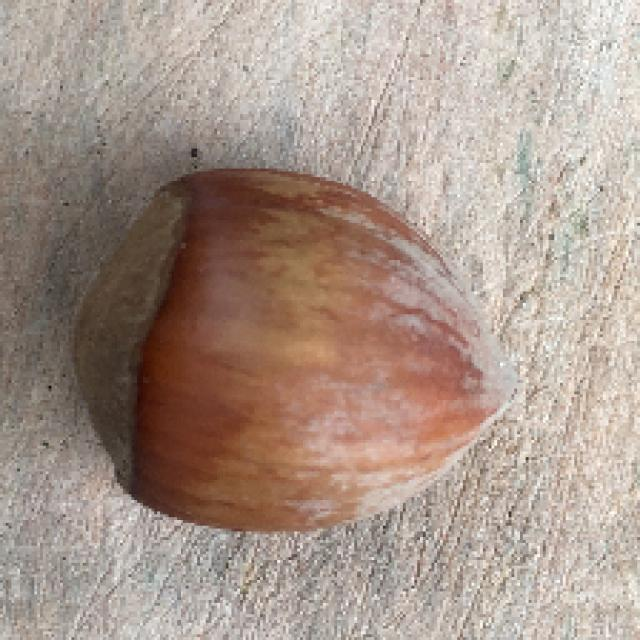qualityHazelnut: (70, 164, 520, 535)
